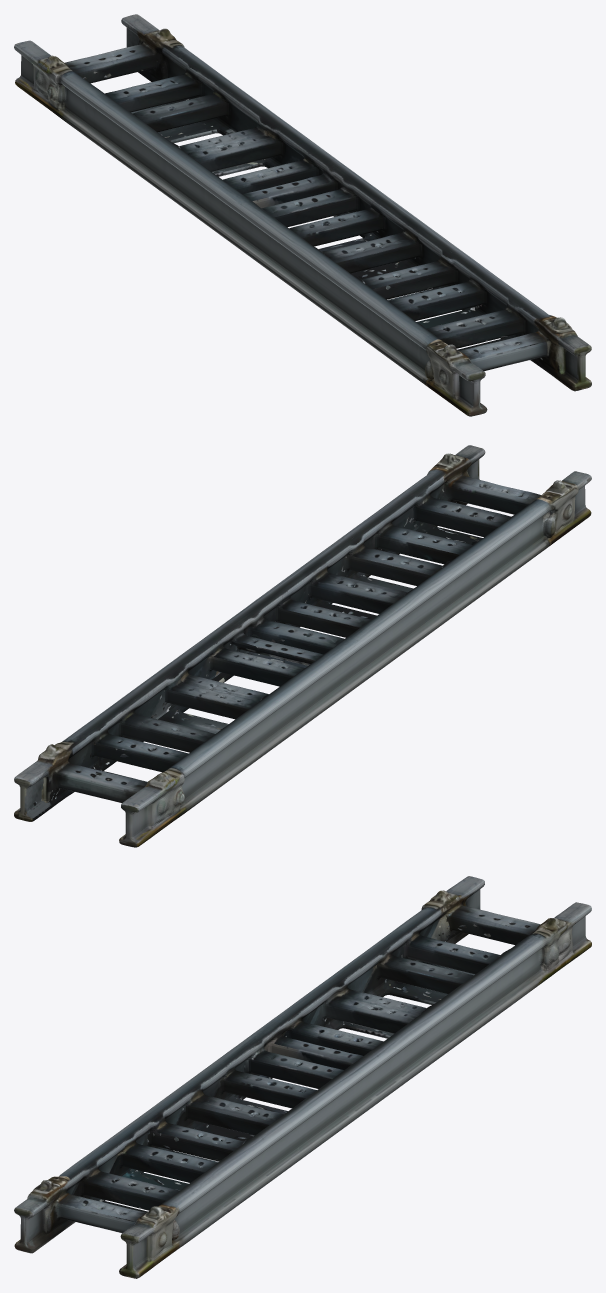
3 renders of one model, top to bottom at view 1: azimuth 30°, elevation 25°; view 2: azimuth 150°, elevation 25°; view 3: azimuth 330°, elevation 25°, orthographic.
Parts seen in each view (by area): view 1: textured.obj; view 2: textured.obj; view 3: textured.obj.
Boxes of the visible parts, x1,y1,x2,y2 form: textured.obj: (14,14,591,416); textured.obj: (14,445,591,847); textured.obj: (14,876,591,1278).
Bounding box in the file's own units: 0.3416 × 0.1273 × 1.99.
Materials: 1 (1 with a texture image).
